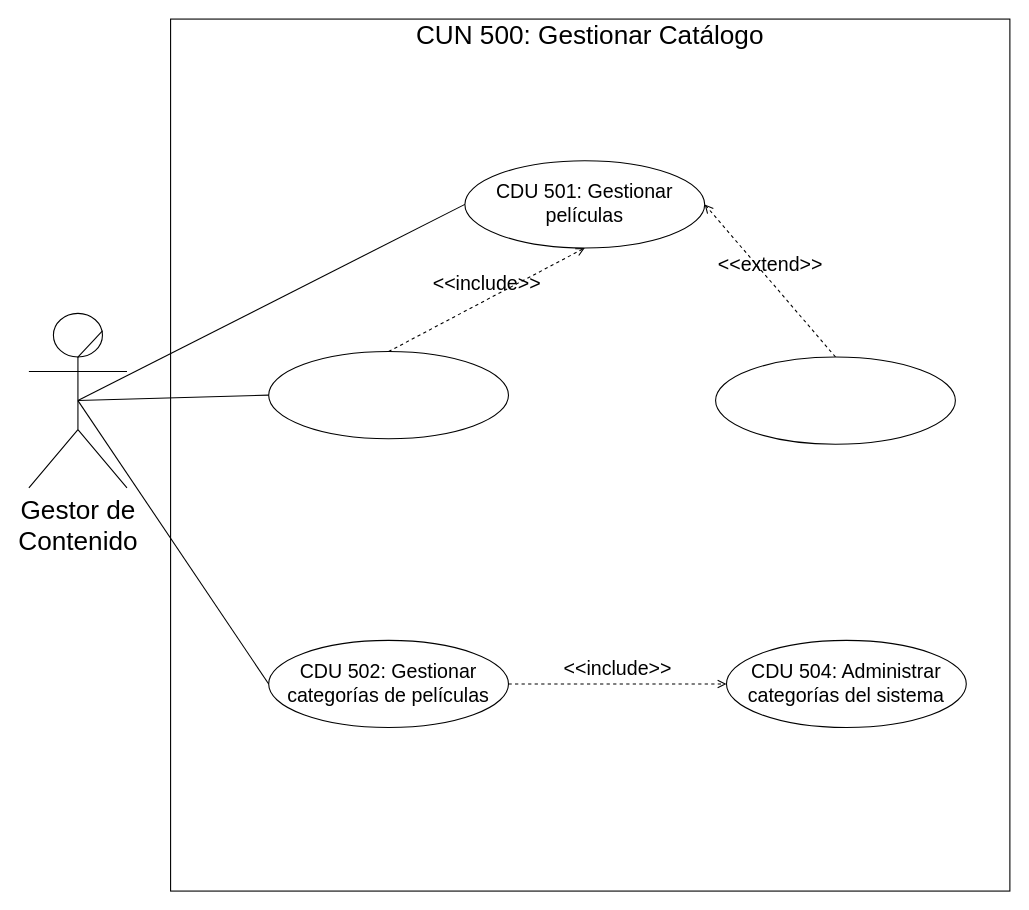
The diagram is 1029 pixels wide and 910 high, and some of its shapes have lost their labels. The shapes that lost their labels are listed below. From the top down, each one's centre as x and y in pixels, then its label:
the point at 388,394: CDU 503: Gestionar galería de imágenes
the point at 834,400: CDU 505: Carga Masiva de contenido
